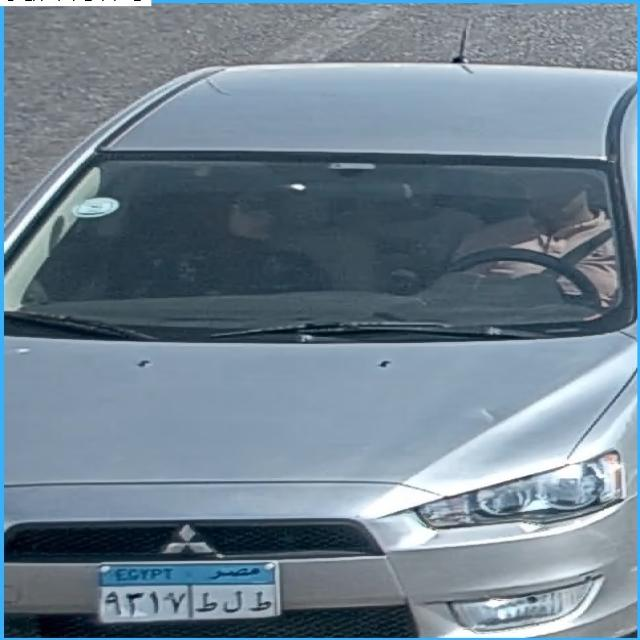windshield: (8, 148, 637, 336)
